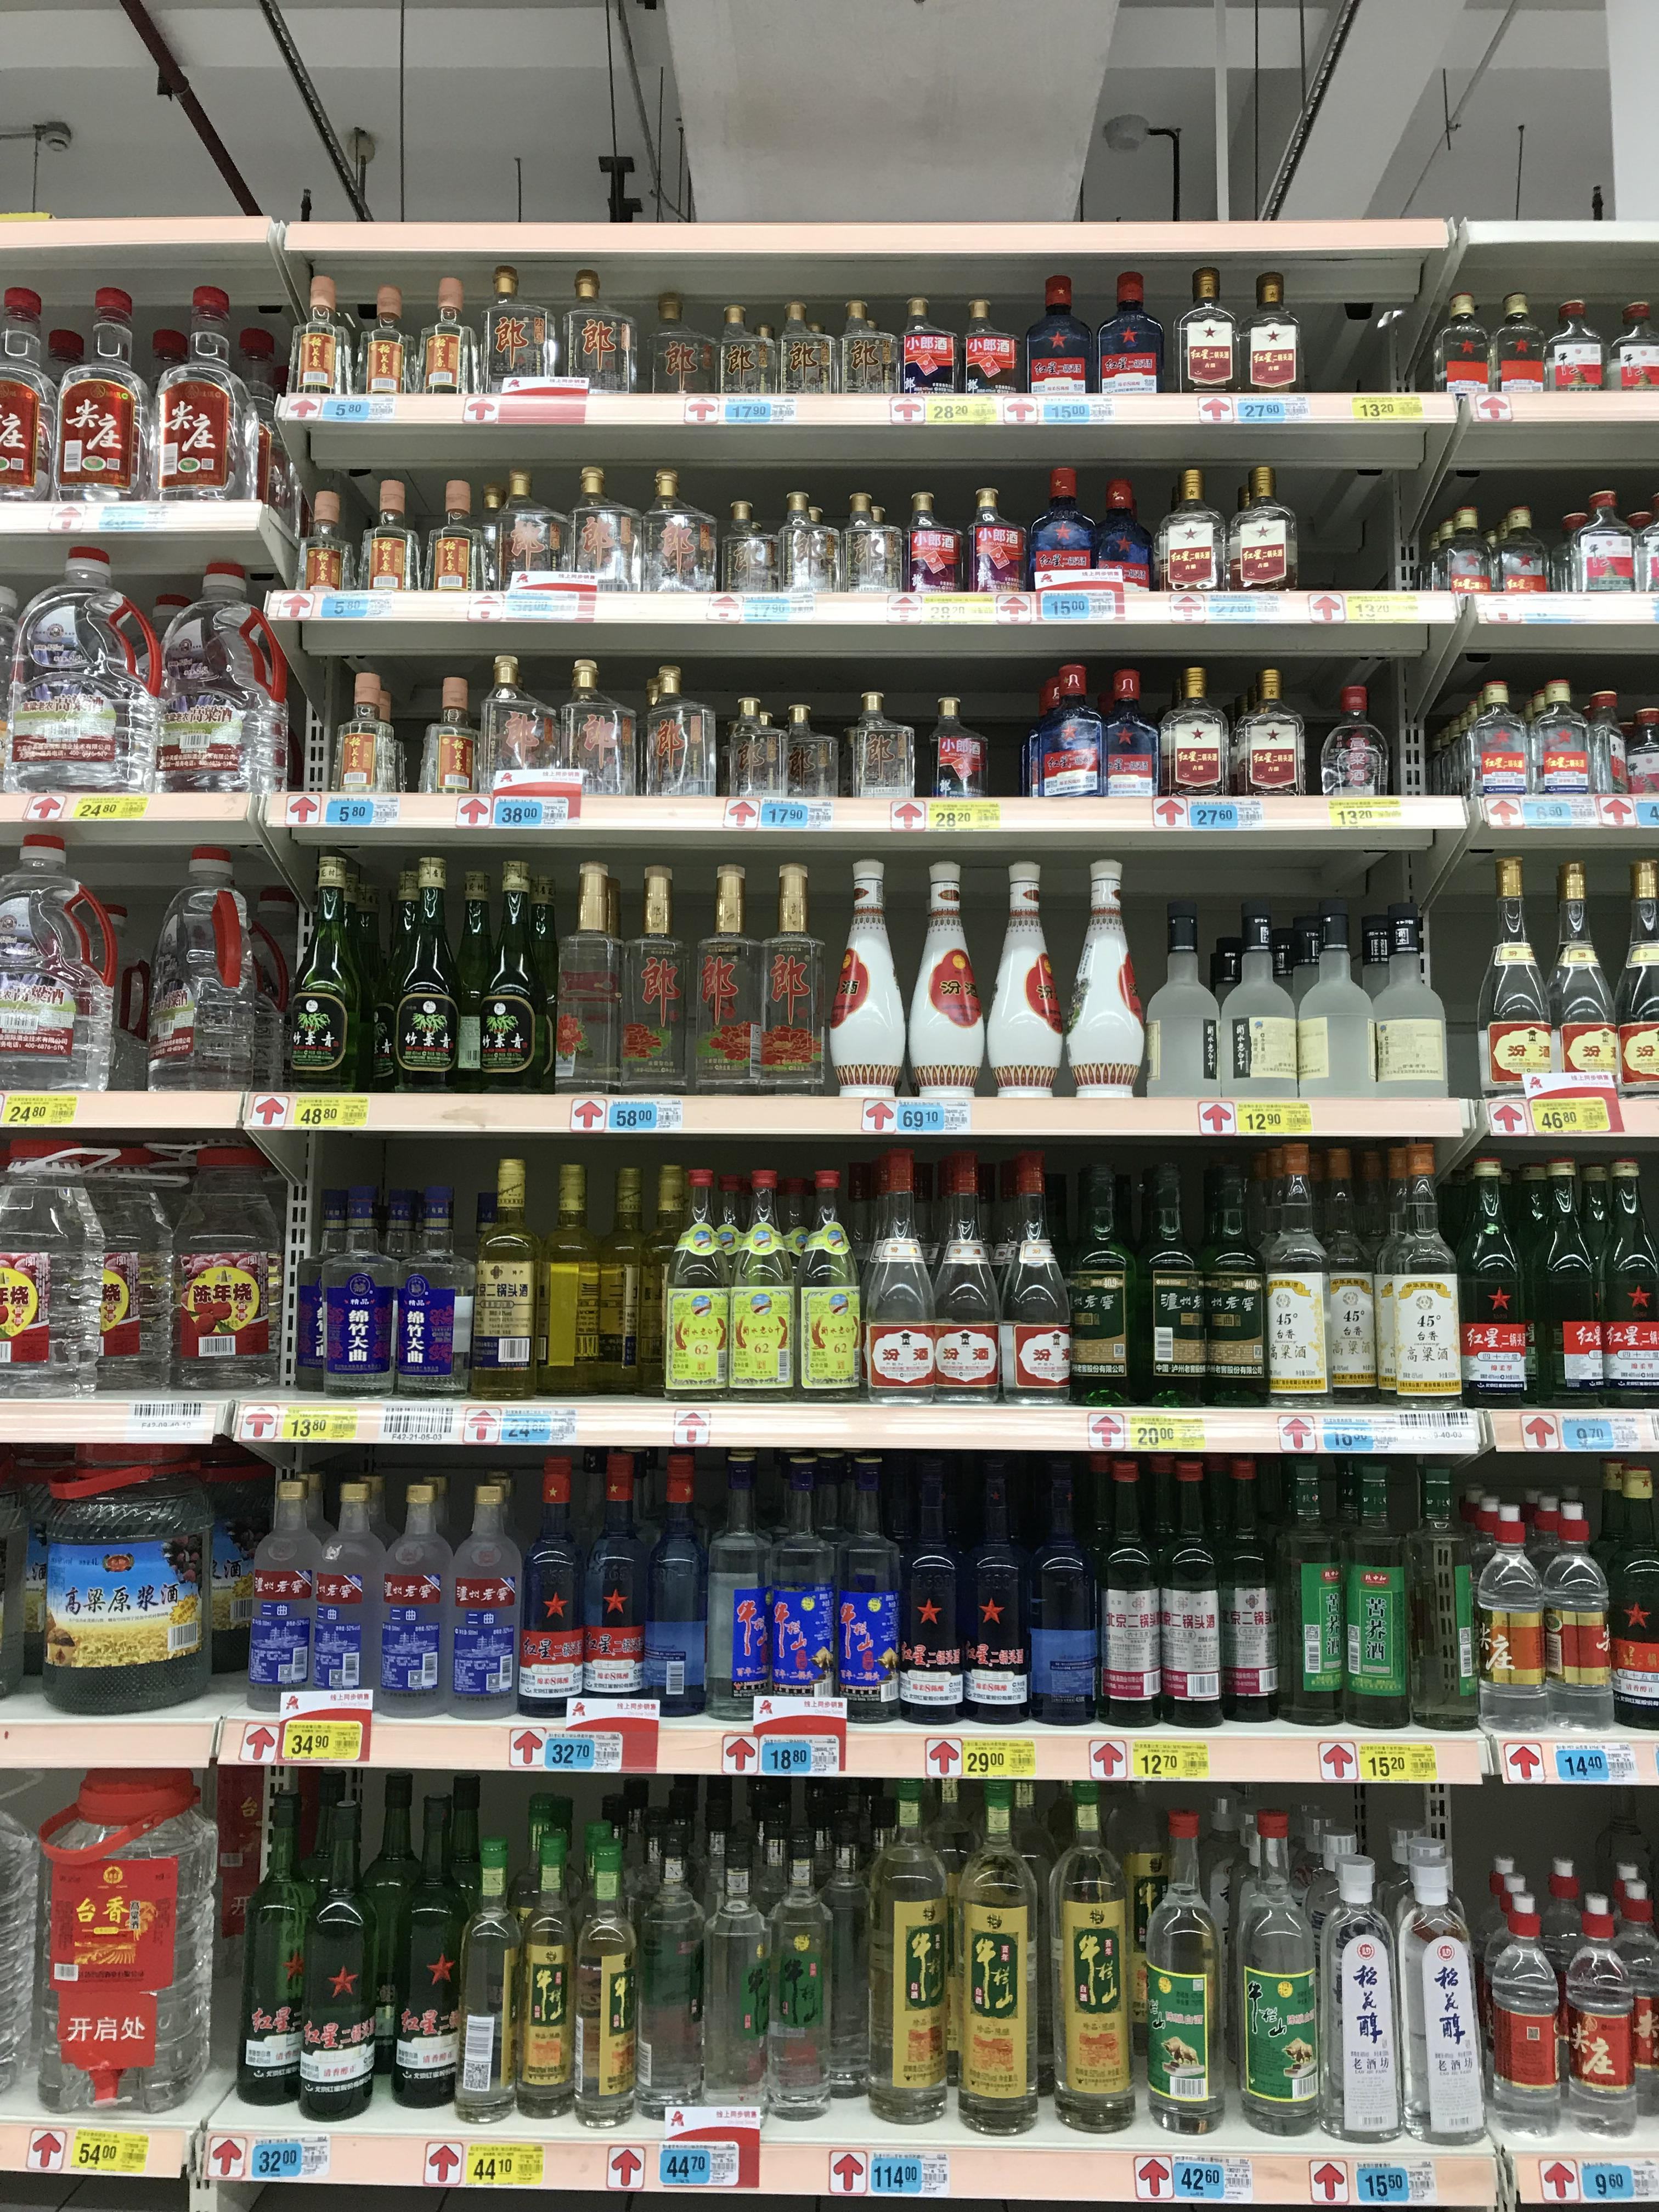bag: (24, 1778, 202, 2107), (58, 1123, 179, 1379), (150, 843, 272, 1094), (0, 1139, 91, 1388)
bottle: (950, 1784, 1044, 2130), (1046, 1792, 1138, 2130), (281, 1789, 375, 2120), (1230, 1818, 1323, 2137), (12, 557, 139, 786), (864, 1791, 951, 2123), (1140, 1810, 1229, 2134), (380, 1799, 471, 2114), (232, 1789, 321, 2104), (0, 833, 105, 1085), (160, 578, 281, 794), (1317, 1848, 1398, 2148), (1406, 1858, 1486, 2148), (1269, 1456, 1352, 1724), (763, 1829, 840, 2118), (1335, 1458, 1417, 1728), (274, 853, 366, 1092), (1405, 1475, 1492, 1728), (570, 1460, 653, 1717), (504, 1832, 579, 2120), (702, 1449, 781, 1719), (242, 1479, 335, 1705), (1023, 1467, 1103, 1724), (894, 1449, 969, 1724), (629, 1454, 709, 1710), (568, 1843, 641, 2121), (1378, 1148, 1457, 1407), (54, 291, 148, 507), (467, 859, 552, 1096), (767, 1456, 842, 1724), (1152, 1460, 1227, 1728), (960, 1460, 1035, 1726), (380, 857, 464, 1094), (511, 1468, 589, 1721), (1253, 1148, 1330, 1406), (833, 1454, 906, 1723), (1483, 1886, 1563, 2128), (1127, 1158, 1206, 1406), (1091, 1463, 1164, 1728), (155, 294, 246, 507), (1560, 1904, 1645, 2128), (706, 1838, 774, 2116), (303, 1484, 387, 1709), (1195, 1155, 1270, 1406), (453, 1848, 523, 2116), (863, 1153, 938, 1402), (1066, 867, 1145, 1103), (462, 1162, 538, 1402), (443, 1486, 523, 1716), (1213, 1461, 1284, 1719), (1060, 1158, 1133, 1407), (373, 1486, 453, 1712), (999, 1155, 1070, 1407), (908, 862, 983, 1103), (1312, 1148, 1382, 1406), (1453, 1157, 1525, 1406), (931, 1155, 1002, 1404), (1539, 862, 1614, 1099), (831, 859, 904, 1101), (988, 859, 1060, 1106), (657, 1170, 734, 1400), (1588, 1470, 1657, 1721), (1537, 1498, 1614, 1723), (638, 1850, 704, 2109), (617, 869, 692, 1097), (1535, 1162, 1603, 1411), (755, 867, 828, 1097), (725, 1167, 798, 1397), (549, 862, 620, 1097), (1588, 1165, 1656, 1409), (694, 869, 767, 1096), (1478, 864, 1547, 1101), (793, 1165, 863, 1399), (1474, 1501, 1546, 1728), (312, 1184, 387, 1395), (533, 1165, 601, 1395), (1361, 900, 1439, 1094), (397, 1181, 460, 1397), (1222, 913, 1295, 1094), (0, 287, 59, 509), (369, 1186, 430, 1395), (1295, 911, 1363, 1096), (599, 1169, 655, 1390), (223, 303, 284, 505), (545, 266, 638, 395), (1148, 925, 1218, 1096), (1607, 864, 1657, 1097), (1026, 669, 1101, 803), (1310, 686, 1398, 801), (491, 467, 568, 597), (572, 463, 647, 596), (1157, 672, 1230, 798), (643, 672, 714, 799), (1225, 465, 1295, 594), (1236, 674, 1307, 799), (1091, 669, 1157, 803), (479, 657, 544, 792), (1023, 280, 1089, 411), (565, 662, 629, 796), (1096, 273, 1161, 404), (288, 280, 349, 418), (640, 291, 716, 399), (910, 698, 983, 810), (1155, 474, 1222, 594), (1025, 477, 1093, 594), (647, 481, 716, 592), (476, 280, 538, 402), (1239, 272, 1298, 399), (1567, 493, 1635, 603), (1178, 272, 1237, 397), (843, 700, 911, 806), (1469, 681, 1530, 798), (340, 671, 394, 796), (411, 293, 472, 402), (777, 498, 843, 597), (1541, 298, 1610, 392), (422, 685, 479, 798), (1483, 291, 1546, 394), (364, 484, 420, 599), (303, 488, 359, 601), (1093, 481, 1150, 590), (425, 489, 484, 596), (960, 500, 1023, 599), (836, 500, 897, 599), (897, 307, 958, 402), (899, 502, 958, 599), (775, 305, 836, 399), (713, 308, 774, 401), (359, 294, 408, 408), (958, 310, 1018, 402), (1441, 294, 1492, 401), (838, 303, 894, 397), (723, 505, 779, 594), (1608, 298, 1659, 394), (1588, 690, 1631, 796), (1624, 705, 1659, 798)
bucket: (44, 1460, 213, 1712), (164, 1123, 282, 1385)
jar: (1525, 678, 1595, 796), (775, 709, 836, 806), (725, 705, 786, 803), (1439, 510, 1499, 603), (1488, 514, 1549, 601)
